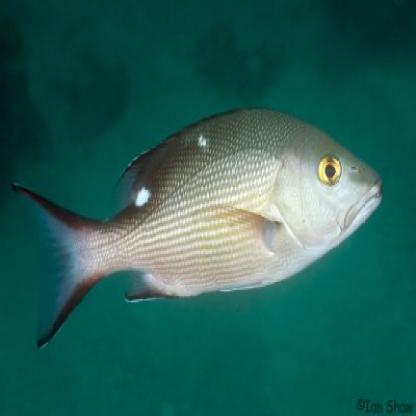snapper: (7, 102, 392, 352)
